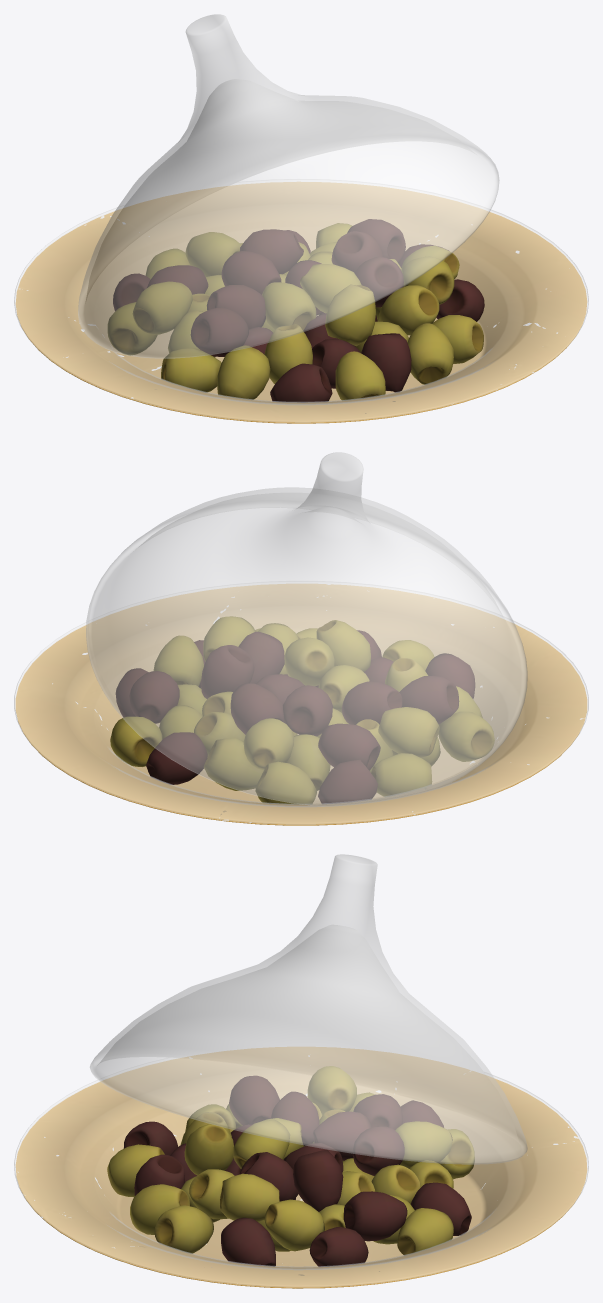
Rendered from olive-dish.glb.
3 views of the same model, one above another, from view 1: azimuth 30°, elevation 25°; view 2: azimuth 150°, elevation 25°; view 3: azimuth 270°, elevation 25° (orthographic).
Parts seen in each view (by area): view 1: glassCover, goldLeaf, glassDish, olives; view 2: glassCover, glassDish, goldLeaf, olives; view 3: glassCover, goldLeaf, olives, glassDish.
Boxes of the visible parts, bbox=[...] form: glassCover: bbox=[78, 14, 499, 358]; goldLeaf: bbox=[15, 182, 587, 423]; glassDish: bbox=[14, 179, 588, 422]; olives: bbox=[107, 219, 484, 402]; glassCover: bbox=[86, 452, 527, 805]; glassDish: bbox=[14, 581, 588, 824]; goldLeaf: bbox=[15, 584, 587, 825]; olives: bbox=[110, 616, 494, 804]; glassCover: bbox=[90, 854, 527, 1164]; goldLeaf: bbox=[15, 1047, 587, 1288]; olives: bbox=[107, 1066, 474, 1266]; glassDish: bbox=[14, 1058, 588, 1287].
Size of the model in its own units: 0.4593 by 0.2855 by 0.4593.
4 materials, 2 textured.
